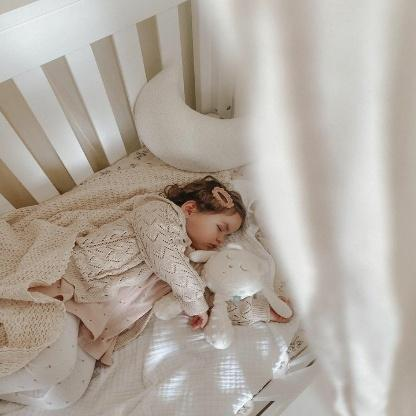baby: (55, 177, 247, 365)
